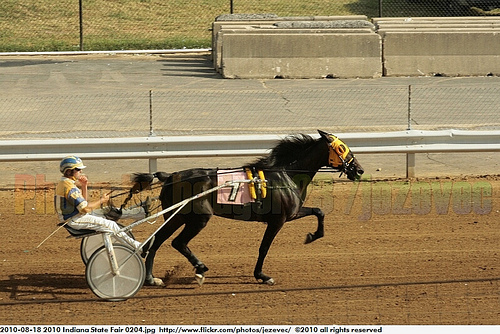horse: (131, 130, 364, 289)
